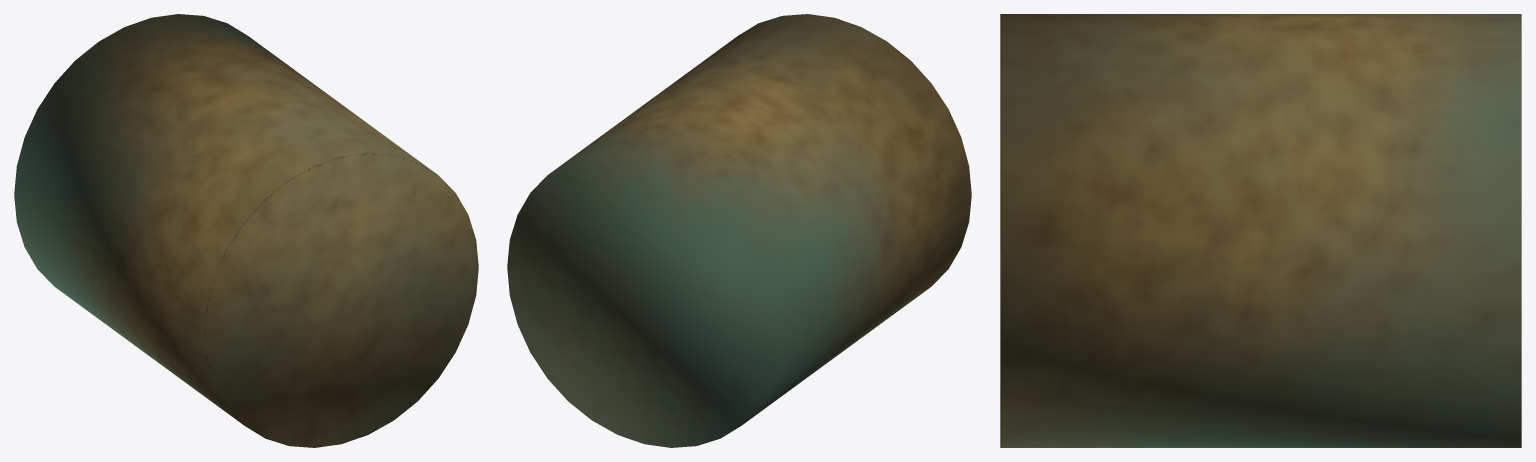
Rendered from Mallet bronze head.glb.
The picture shows the model from 3 angles, left to right: view 1: azimuth 30°, elevation 25°; view 2: azimuth 150°, elevation 25°; view 3: azimuth 270°, elevation 25°; orthographic projection. The views are drawn at different scales.
Parts seen in each view (by area): view 1: Mallet bronze head; view 2: Mallet bronze head; view 3: Mallet bronze head.
Part boxes in pixels (<box>): Mallet bronze head: <box>14,14,478,447</box>; Mallet bronze head: <box>507,14,971,447</box>; Mallet bronze head: <box>1000,14,1521,447</box>.
Size of the model in its own units: 0.15 by 0.15 by 0.18.
1 material, 1 textured.
